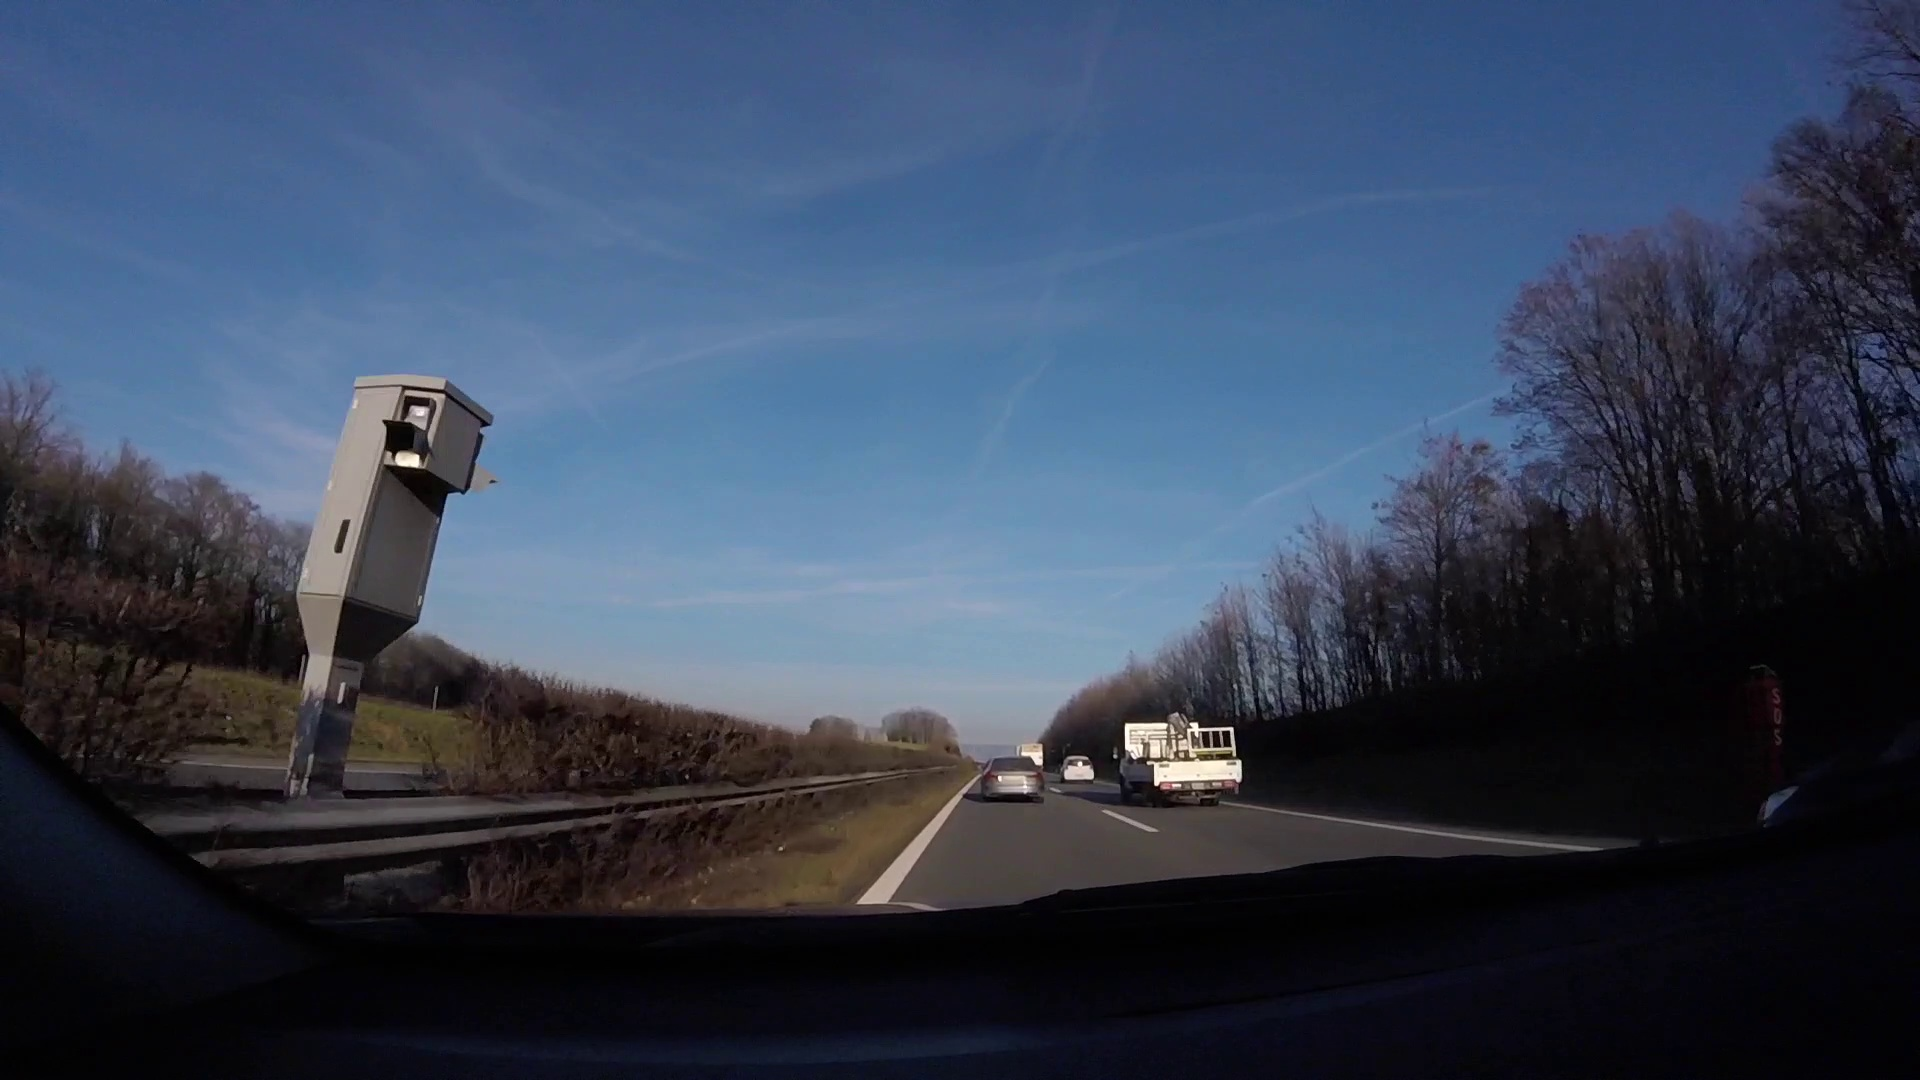radar: (290, 372, 498, 716)
